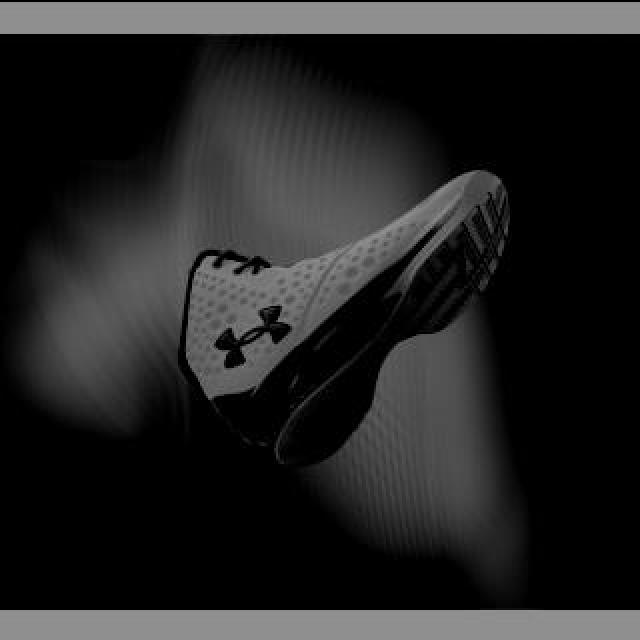shoe: (176, 164, 512, 468)
